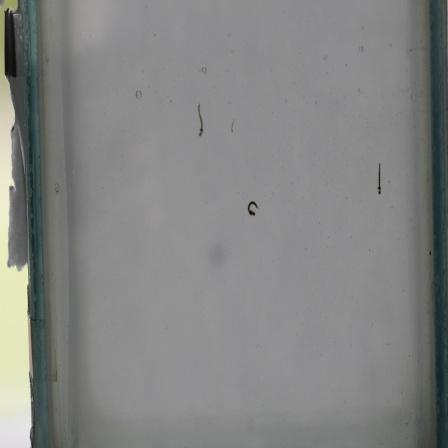Jentik-Nyamuk: (192, 100, 208, 140), (372, 160, 387, 198), (244, 196, 261, 221)
